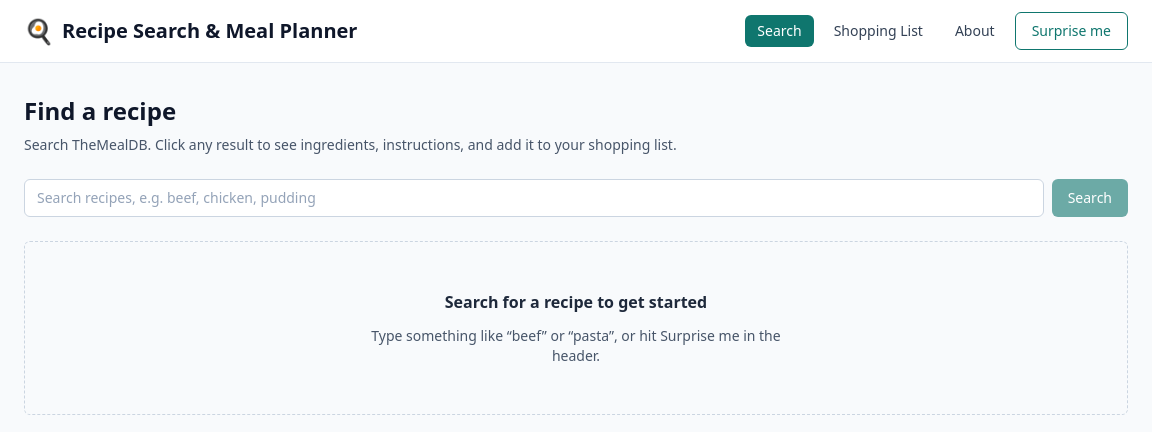
Test: AppRouter › navigates to the Shopping List route via the nav link
The image size is (1152, 432).
Click the link "Shopping List".
click(878, 30)  # box [834, 21, 923, 40]
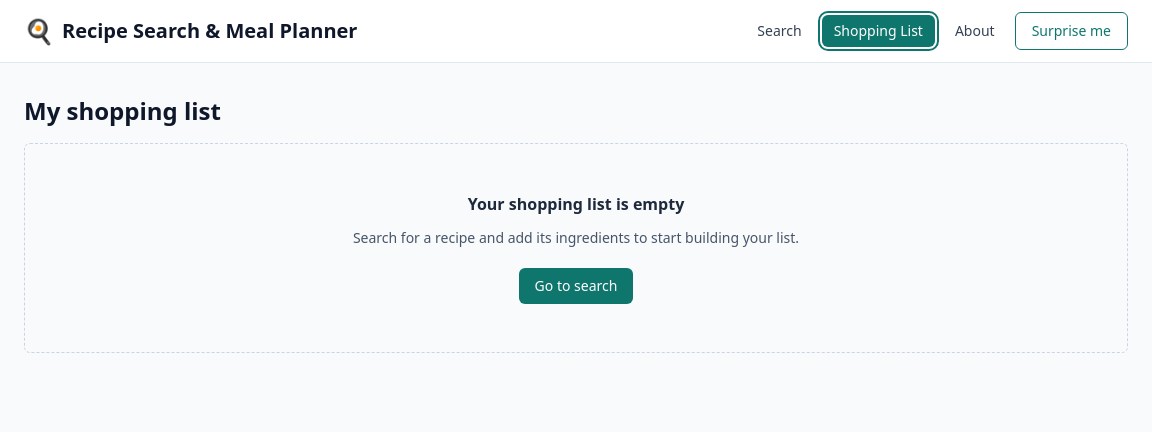
Expected: the heading "My shopping list" is shown, [24, 94, 221, 127]
